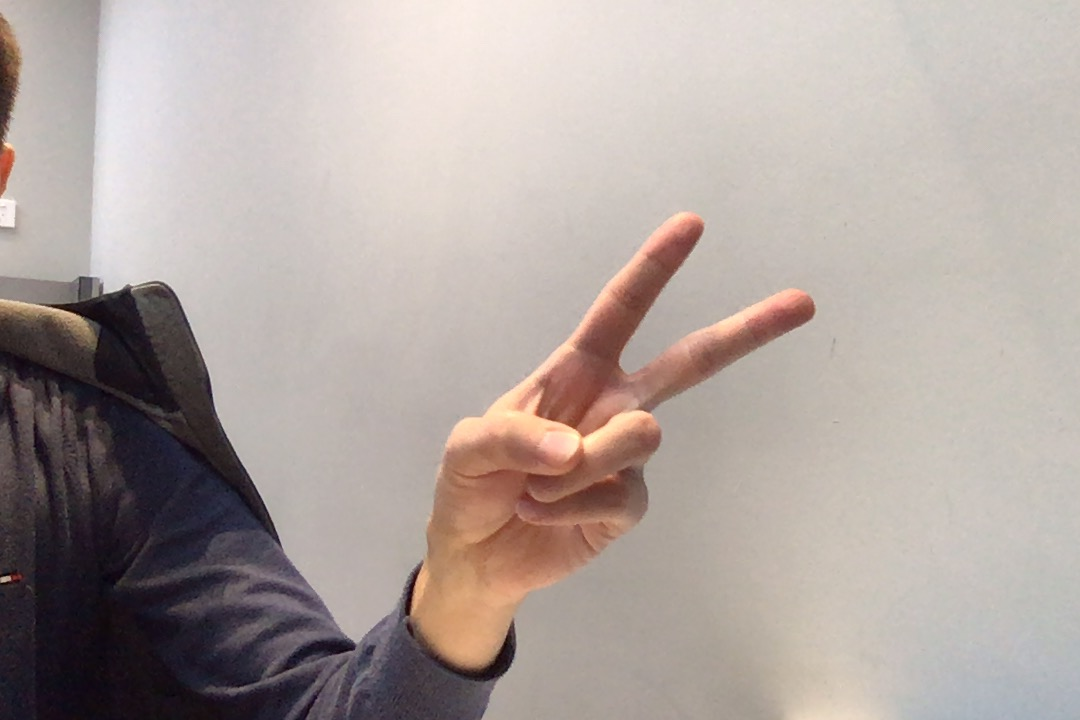peacesign: (421, 203, 828, 603)
